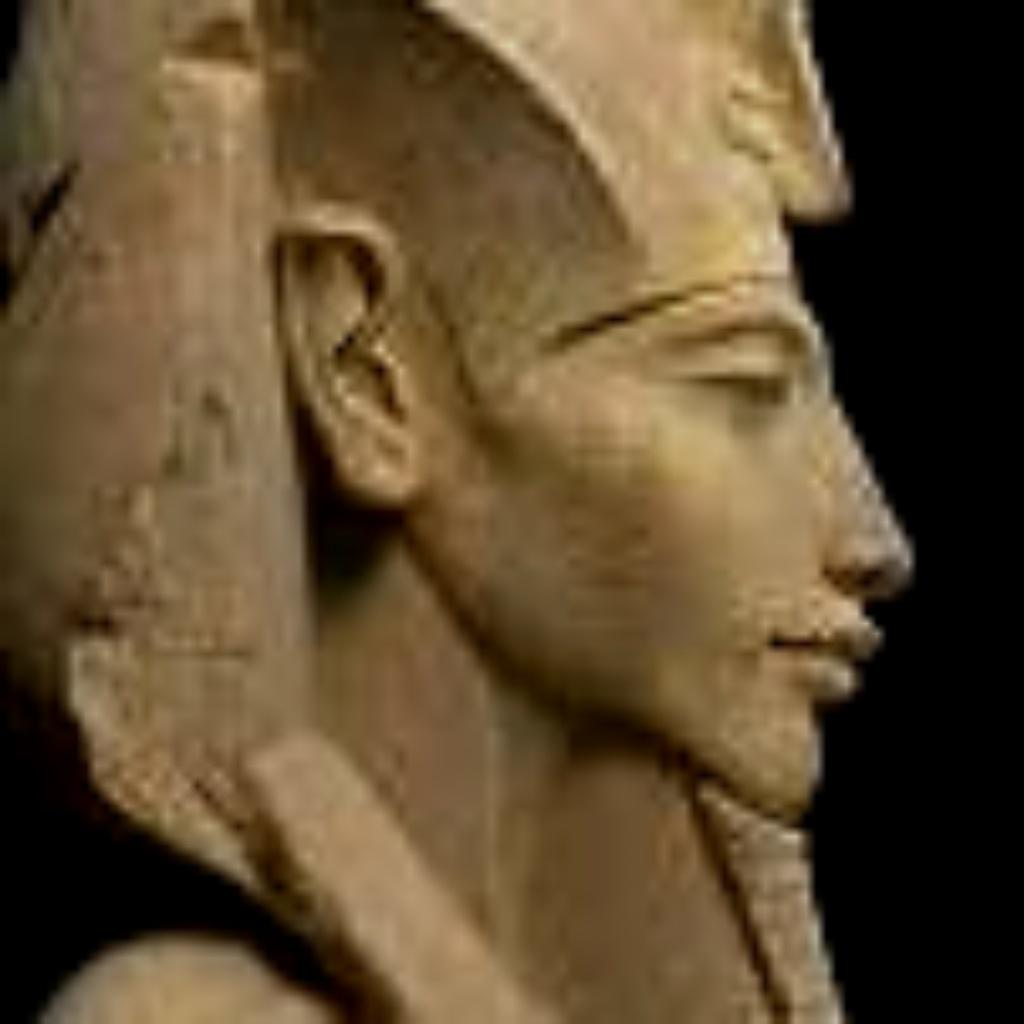Akhenaten: (0, 0, 1014, 1014)
